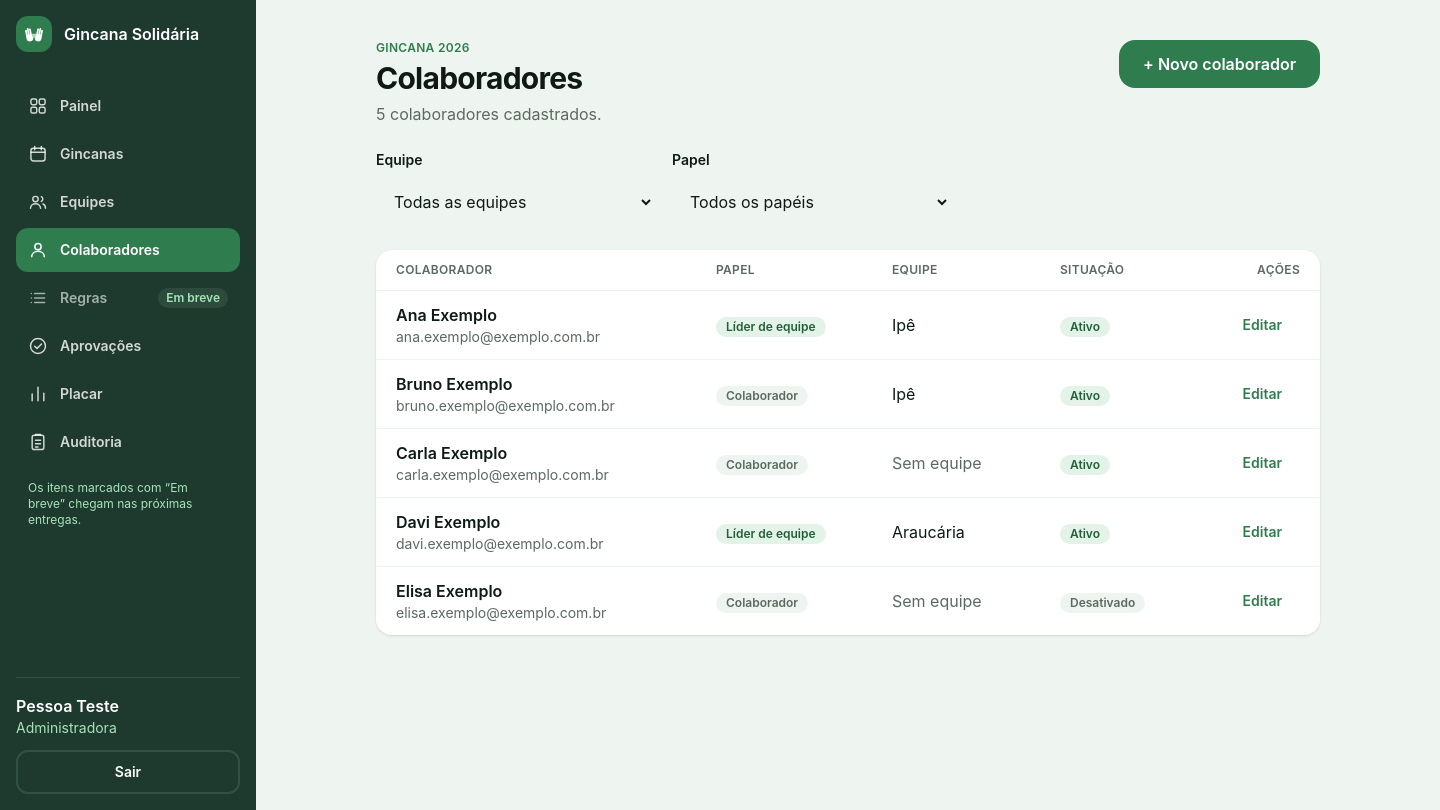
it: Colaboradores (US03) › desativar › pede confirmação e só então desativa quem não lidera ninguém
The width and height of the screenshot is (1440, 810).
Step 1. Click the button with aria-label "Editar Bruno Exemplo" → click(1262, 394), box [1224, 372, 1300, 416]
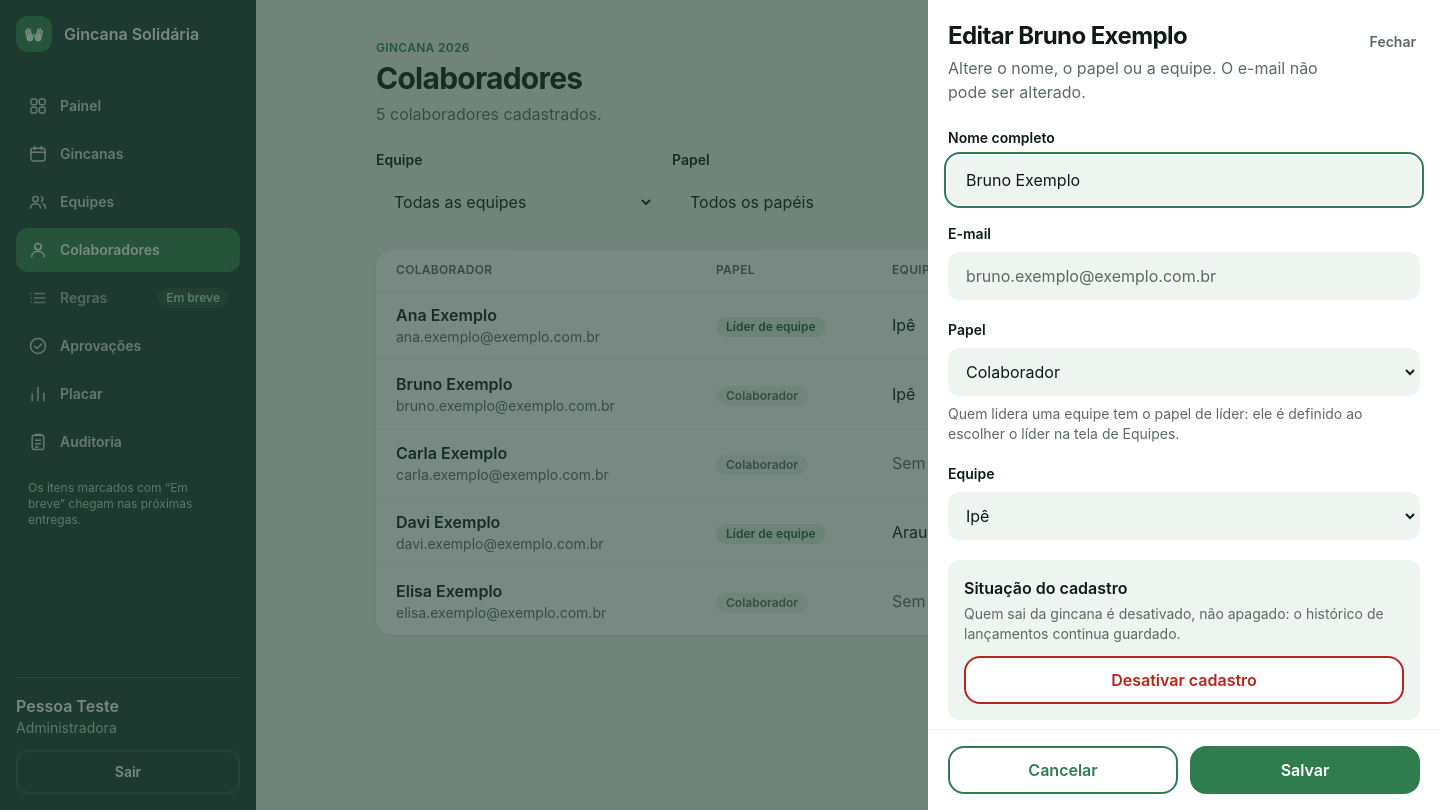
Step 2. Click the button "Desativar cadastro" → click(1184, 680), box [964, 656, 1404, 704]
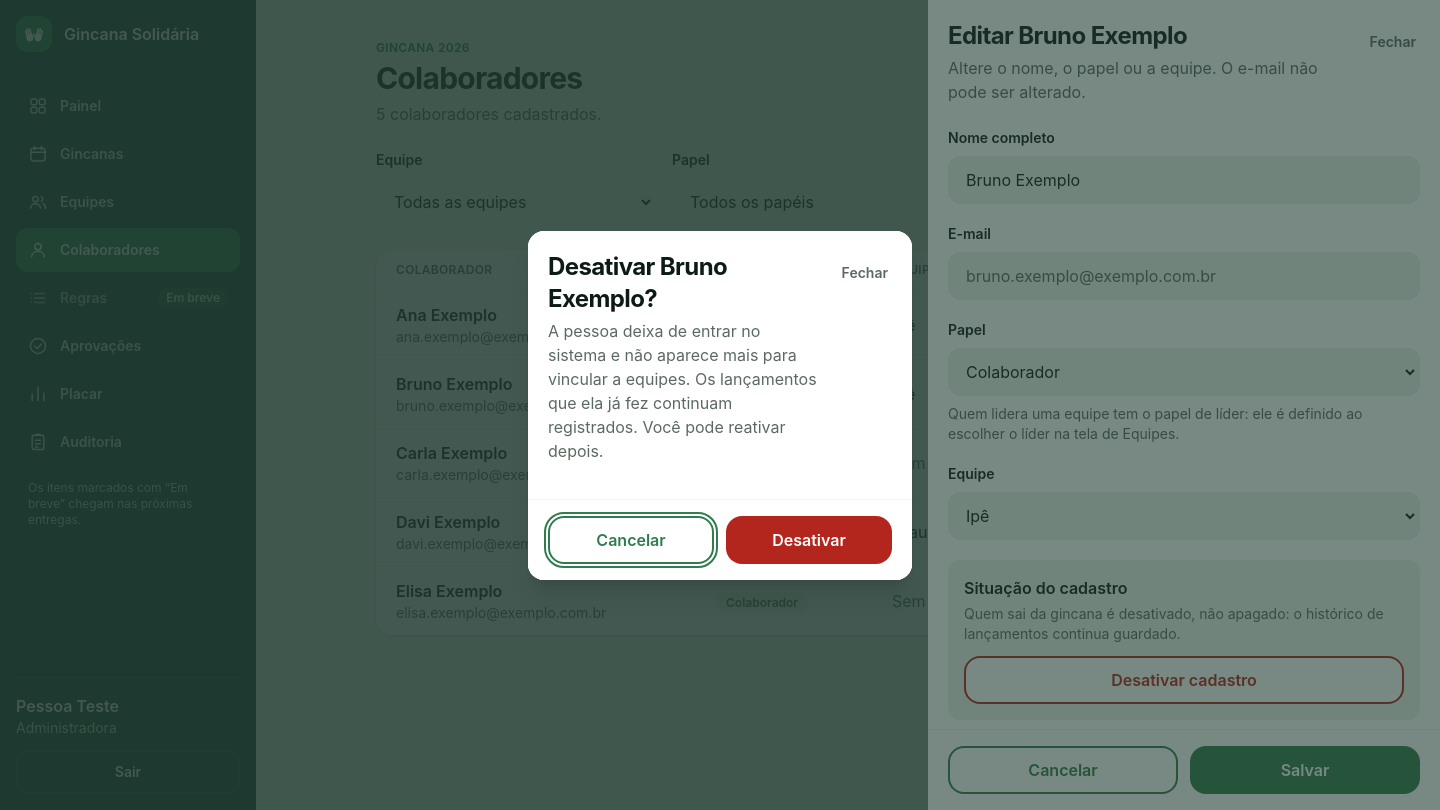
Note: Desistir não grava nada.
Step 3. Click the button "Cancelar" → click(631, 540), box [548, 516, 714, 564]
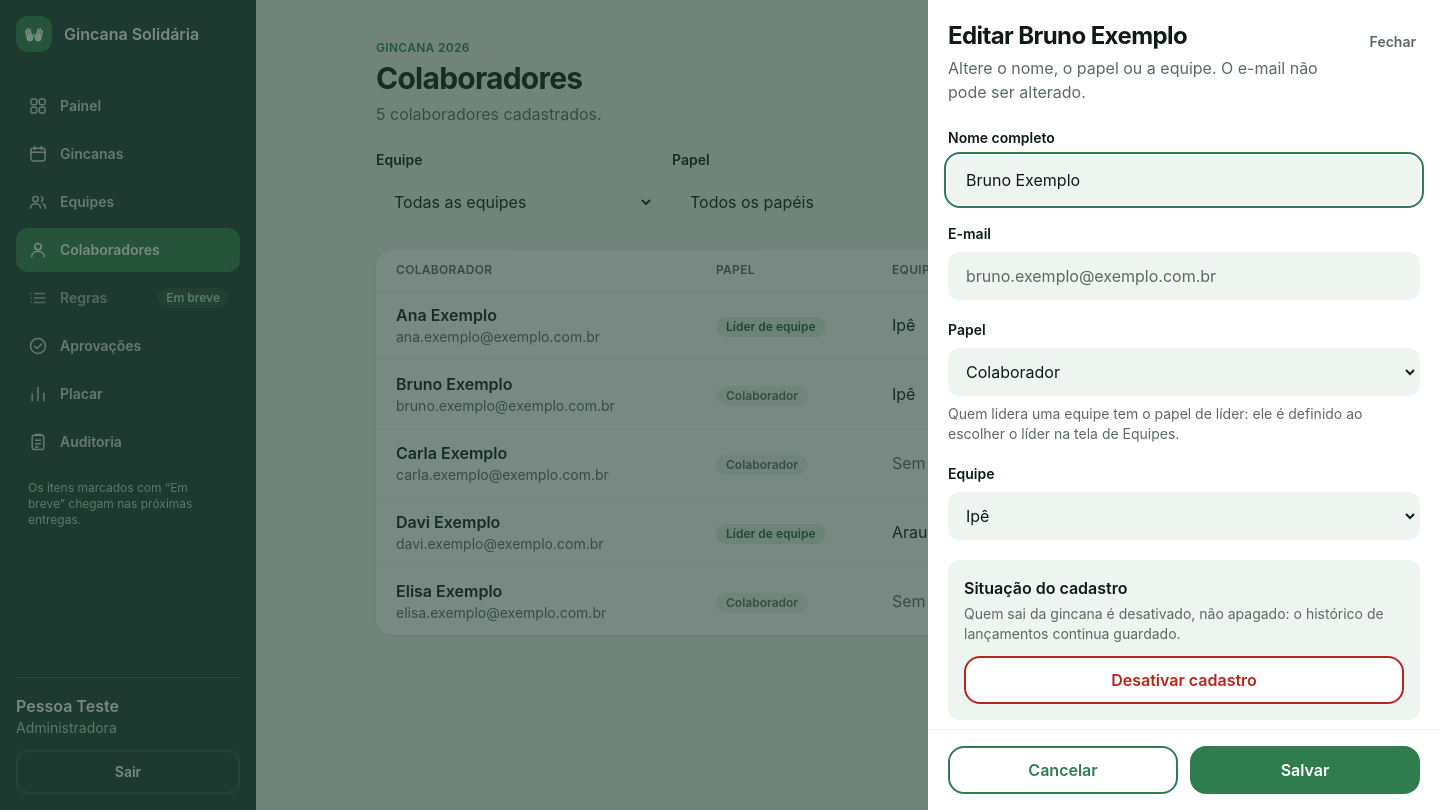
Step 4. Click the button "Desativar cadastro" → click(1184, 680), box [964, 656, 1404, 704]
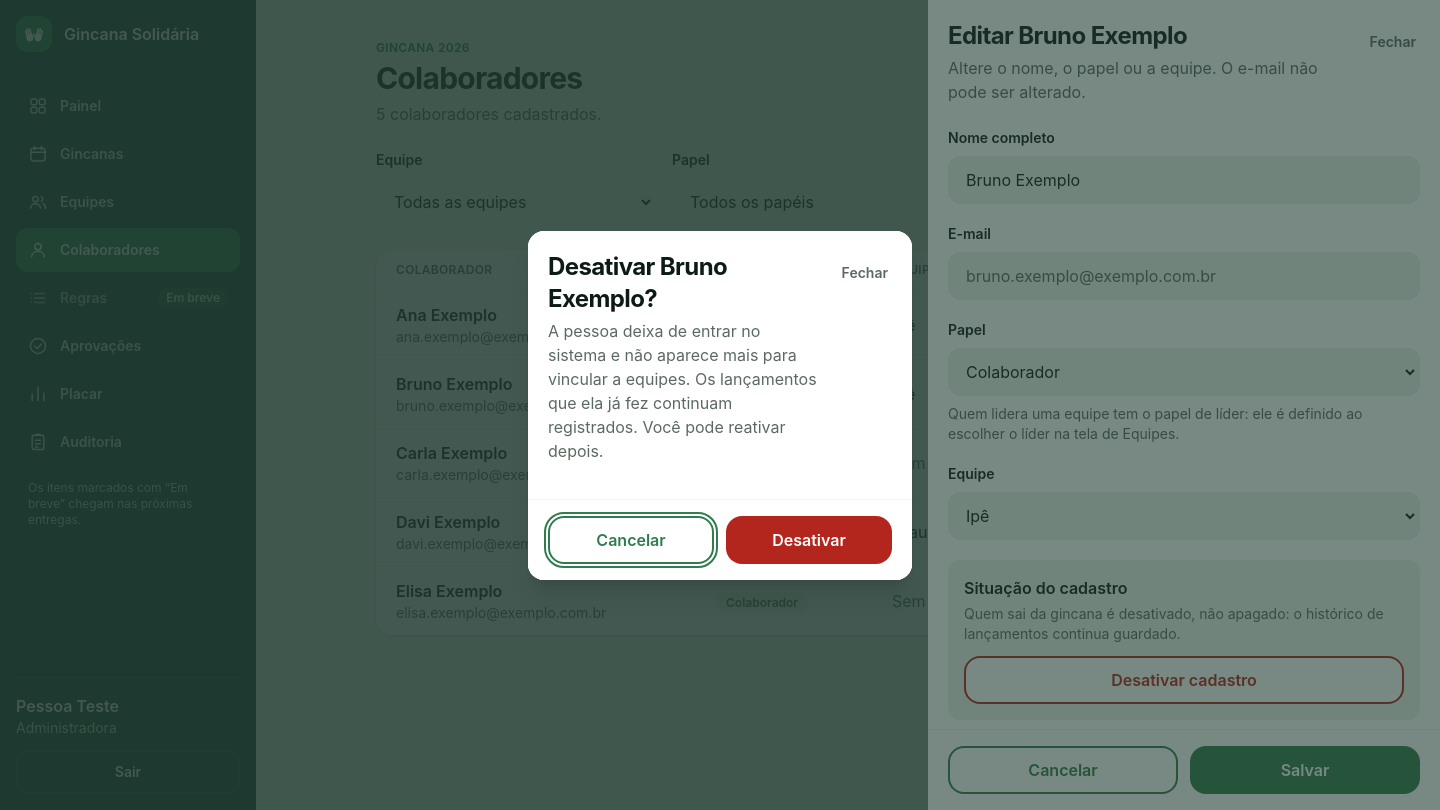
Step 5. Click the button "Desativar" → click(809, 540), box [726, 516, 892, 564]
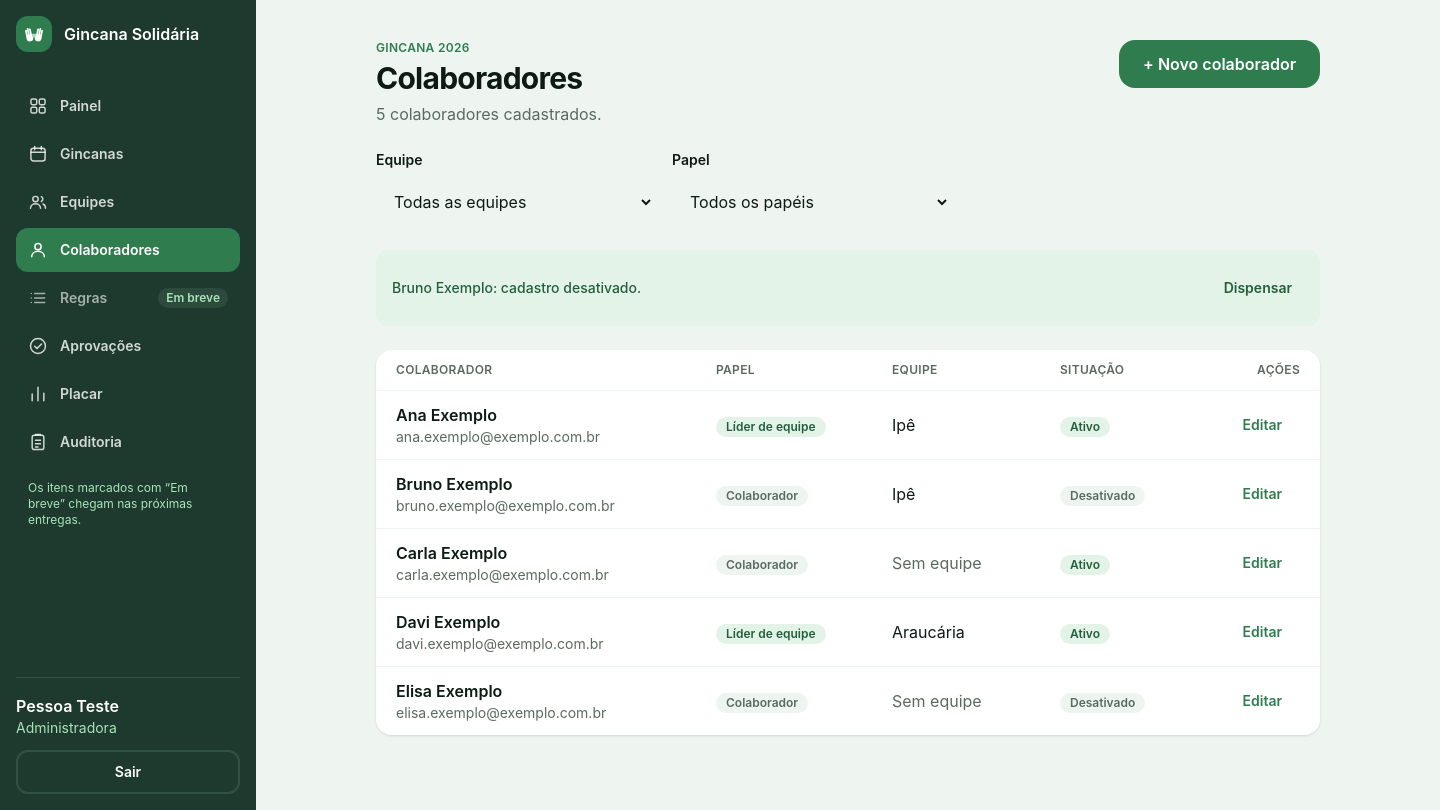
Check: the message shows "Bruno Exemplo: cadastro desativado.", box [392, 278, 641, 296]
Check: the row that starts with "Bruno Exemplo" shows "Desativado", box [1070, 488, 1135, 502]
